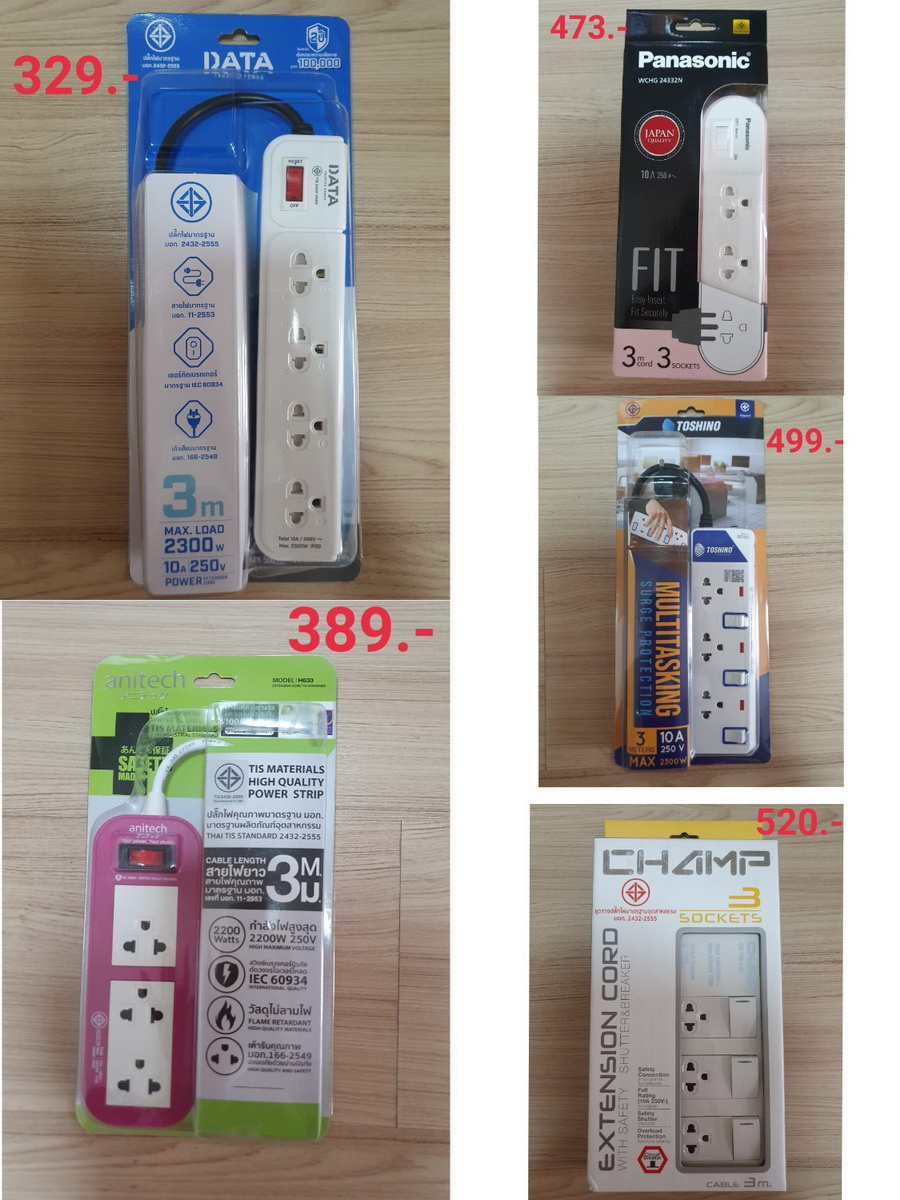Three_eye_plug: (241, 115, 369, 589), (72, 806, 213, 1143), (671, 919, 776, 1181), (675, 71, 774, 346), (675, 519, 764, 762)
